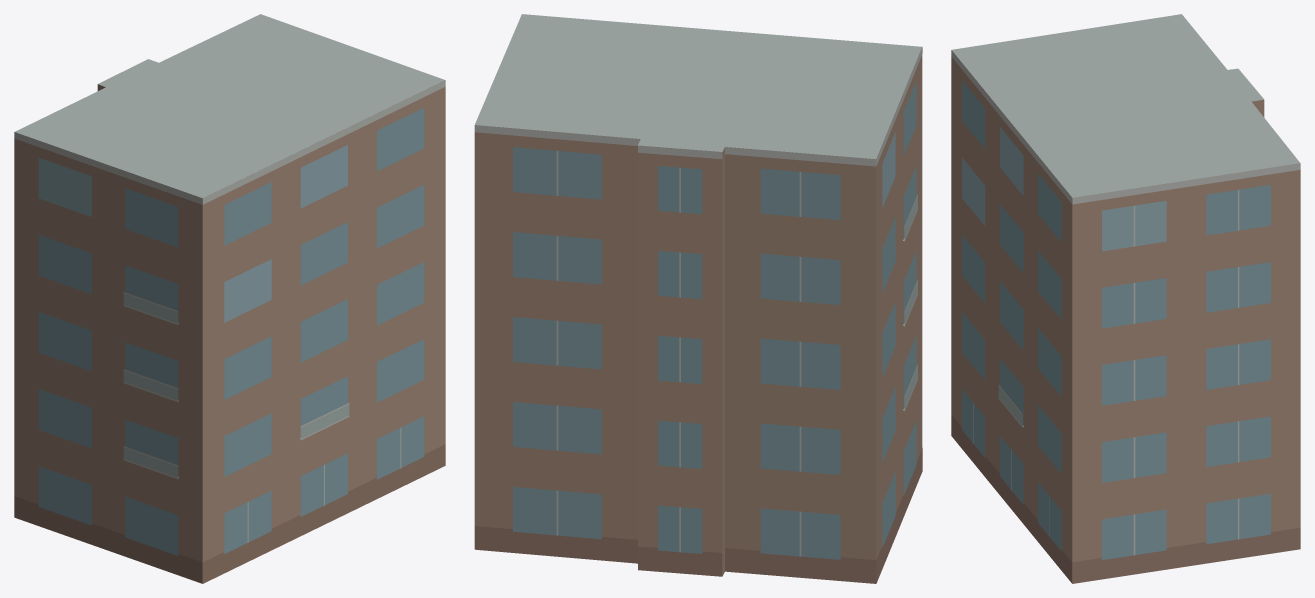
Rendered from survey-upis-32696903.glb.
3 renders of one model, left to right at view 1: azimuth 30°, elevation 25°; view 2: azimuth 150°, elevation 25°; view 3: azimuth 270°, elevation 25°, orthographic. The views are drawn at different scales.
Visible parts, largest first — view 1: survey-upis-32696903.tmp; view 2: survey-upis-32696903.tmp; view 3: survey-upis-32696903.tmp.
Part boxes in pixels (x1,y1,x2,y2): survey-upis-32696903.tmp: (14, 14, 445, 583); survey-upis-32696903.tmp: (474, 14, 922, 583); survey-upis-32696903.tmp: (951, 14, 1300, 583).
Size of the model in its own units: 14.62 by 14.3 by 11.73.
